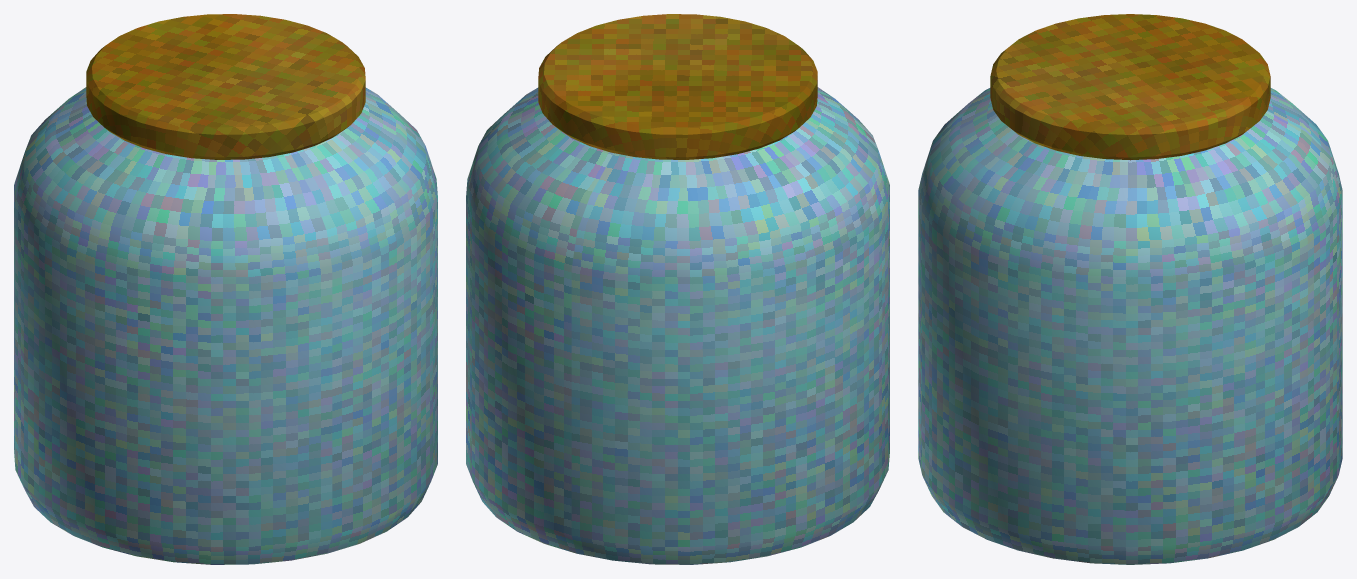
File: Cans.fbx
3 views of the same model, side by side, from view 1: azimuth 30°, elevation 25°; view 2: azimuth 150°, elevation 25°; view 3: azimuth 270°, elevation 25° (orthographic).
Parts seen in each view (by area): view 1: Can; view 2: Can; view 3: Can.
Part boxes in pixels (x1=…): Can: x1=14, y1=14, x2=437, y2=564; Can: x1=466, y1=14, x2=889, y2=564; Can: x1=918, y1=14, x2=1342, y2=564.
Bounding box in the file's own units: 50.6 × 54.9 × 50.6.
